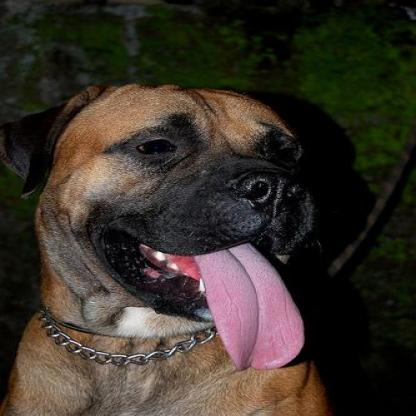bull_mastiff: (0, 80, 331, 414)
